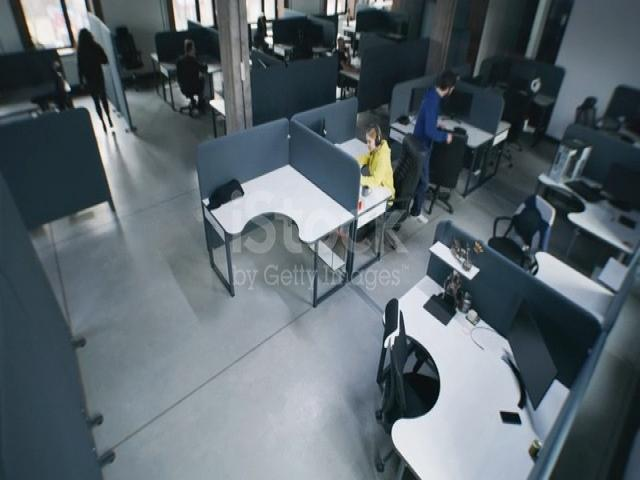empty chair: (365, 274, 443, 467), (489, 186, 566, 278), (111, 14, 150, 96), (38, 57, 79, 133), (569, 74, 605, 149), (436, 125, 468, 205), (506, 70, 533, 155)
occupiedchair: (347, 96, 402, 218), (174, 22, 226, 119), (322, 14, 357, 100)
